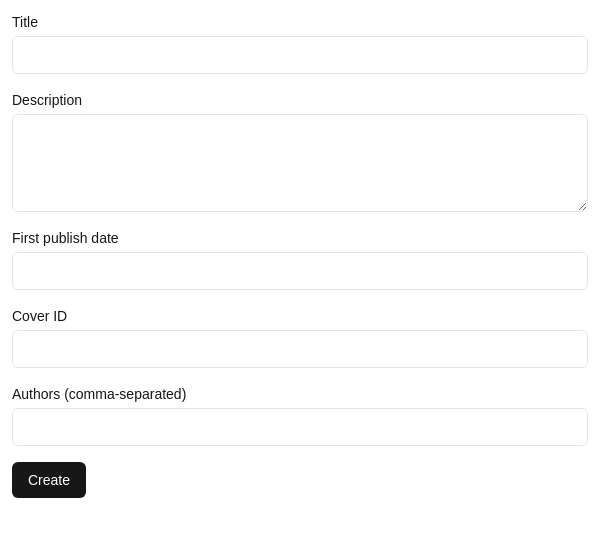
Test case: WorkForm › 생성 모드 › 실패하면 에러 메시지 표시
Type "New Book" into the field labelled "Title" at (300, 55), box [12, 36, 588, 74]
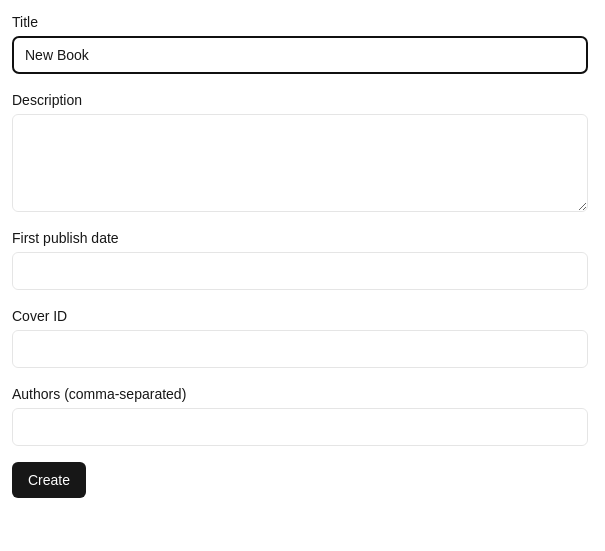
Click the button "Create" at (49, 480), box [12, 462, 86, 498]
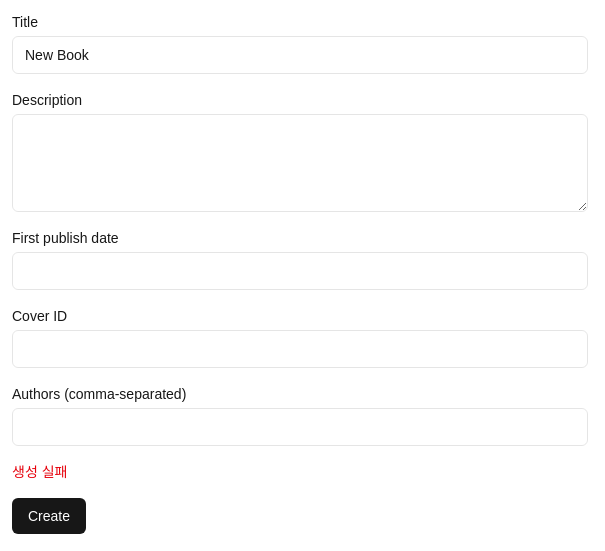
Check: the text "생성 실패" is shown, box [12, 464, 67, 480]
